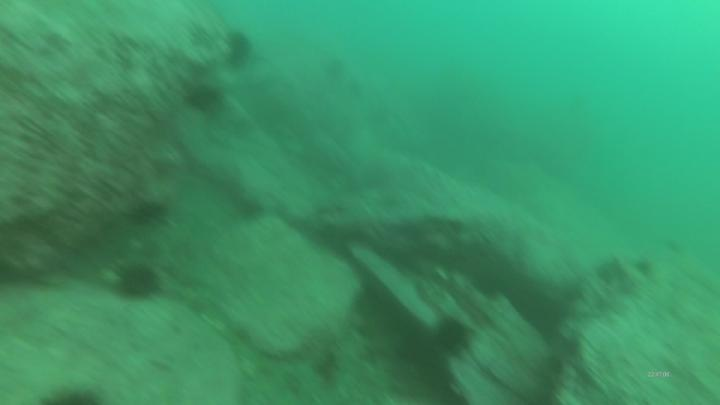echinus: (431, 311, 478, 361), (111, 261, 163, 303), (33, 382, 110, 405), (224, 27, 255, 70), (128, 198, 170, 228), (184, 84, 222, 114)
